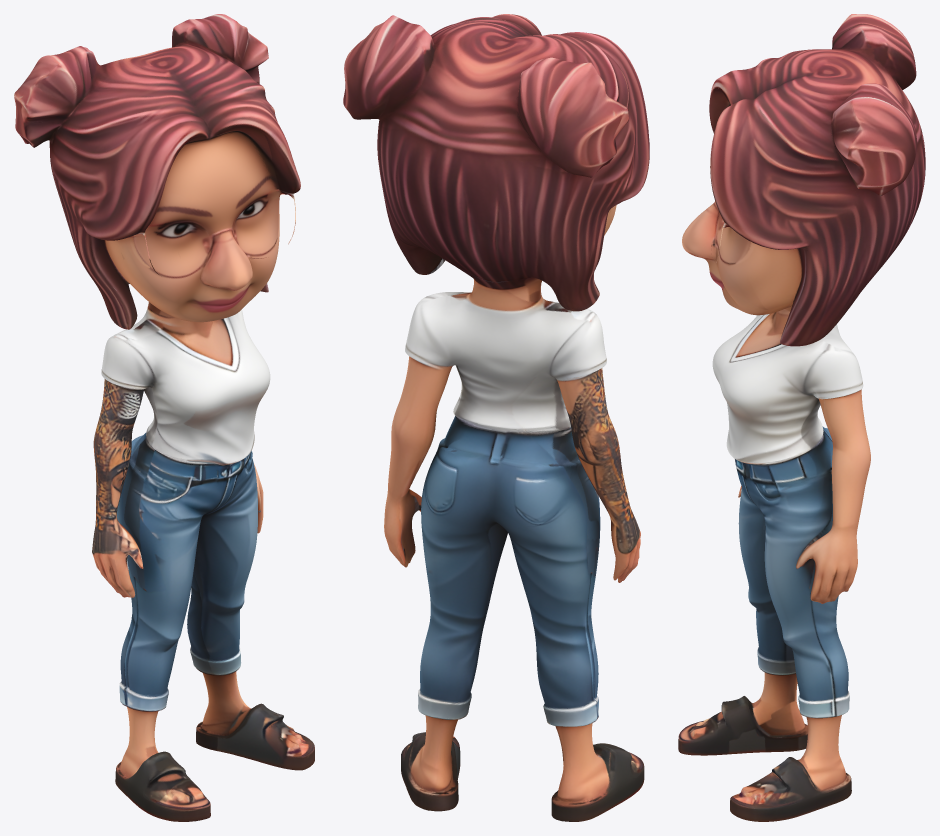
File: rochelle.glb
3 renders of one model, left to right at view 1: azimuth 30°, elevation 25°; view 2: azimuth 150°, elevation 25°; view 3: azimuth 270°, elevation 25°, orthographic. The views are drawn at different scales.
Parts seen in each view (by area): view 1: model; view 2: model; view 3: model.
Part boxes in pixels (x1,y1,x2,y2): model: (14, 14, 314, 821); model: (343, 14, 649, 821); model: (678, 14, 925, 821).
Size of the model in its own units: 0.6777 by 1.9 by 0.6013.
Materials: 1 (1 with a texture image).
